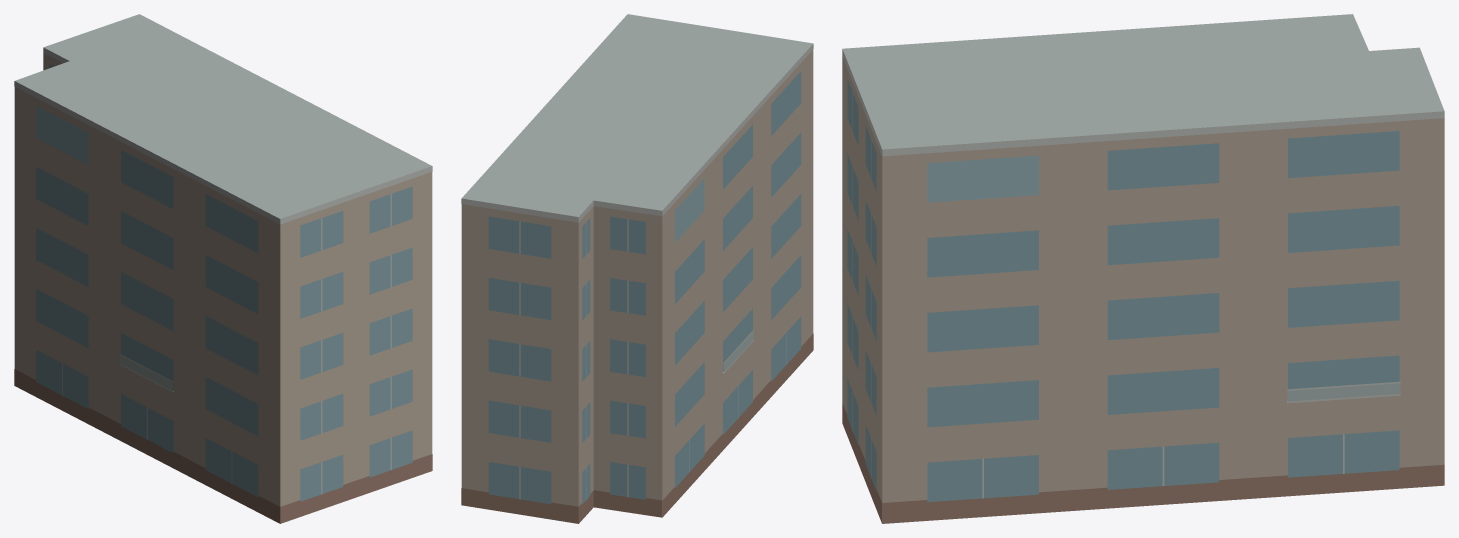
File: survey-upis-33003275.glb
3 renders of one model, left to right at view 1: azimuth 30°, elevation 25°; view 2: azimuth 150°, elevation 25°; view 3: azimuth 270°, elevation 25°, orthographic. The views are drawn at different scales.
Visible parts, largest first — view 1: survey-upis-33003275.tmp; view 2: survey-upis-33003275.tmp; view 3: survey-upis-33003275.tmp.
Boxes of the visible parts, x1,y1,x2,y2 form: survey-upis-33003275.tmp: [14, 14, 432, 523]; survey-upis-33003275.tmp: [461, 14, 813, 523]; survey-upis-33003275.tmp: [842, 14, 1444, 523].
Bounding box in the file's own units: 10.42 × 13.4 × 19.55.
